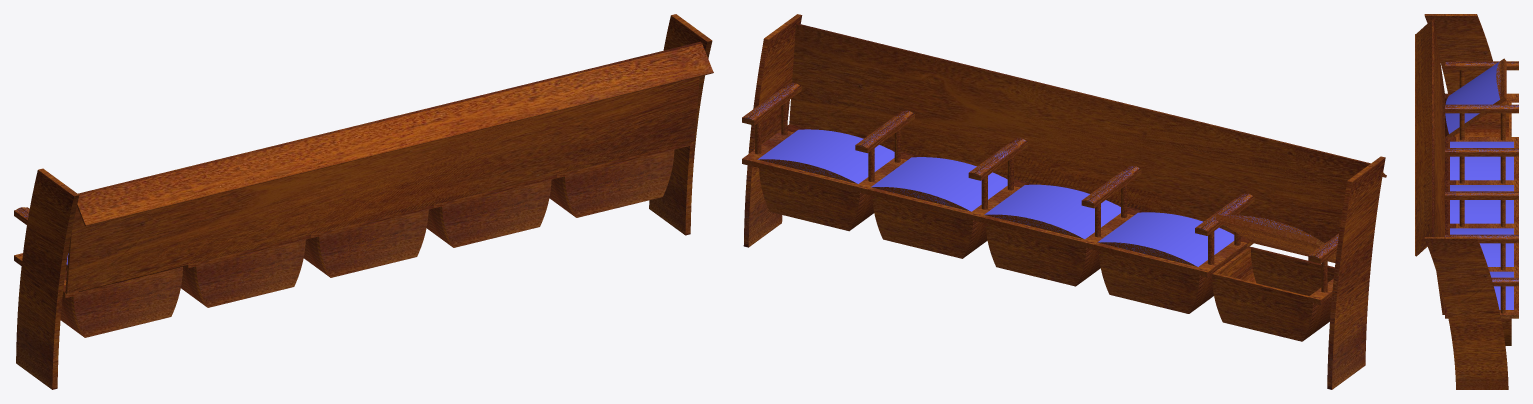
3 views of the same model, side by side, from view 1: azimuth 30°, elevation 25°; view 2: azimuth 150°, elevation 25°; view 3: azimuth 270°, elevation 25° (orthographic). The views are drawn at different scales.
Parts seen in each view (by area): view 1: mesh27_mesh27-geometry, mesh28_mesh28-geometry, mesh3_mesh3-geometry, mesh1_mesh1-geometry; view 2: mesh27_mesh27-geometry, mesh28_mesh28-geometry, mesh3_mesh3-geometry, mesh5_mesh5-geometry, mesh17_mesh17-geometry, mesh9_mesh9-geometry, mesh14_mesh14-geometry, mesh24_mesh24-geometry, mesh1_mesh1-geometry, mesh21_mesh21-geometry, mesh20_mesh20-geometry, mesh7_mesh7-geometry (+3 smaller); view 3: mesh1_mesh1-geometry, mesh27_mesh27-geometry, mesh5_mesh5-geometry, mesh3_mesh3-geometry, mesh21_mesh21-geometry, mesh14_mesh14-geometry, mesh24_mesh24-geometry, mesh9_mesh9-geometry, mesh28_mesh28-geometry, mesh17_mesh17-geometry, mesh8_mesh8-geometry, mesh13_mesh13-geometry (+4 smaller).
Boxes of the visible parts, x1,y1,x2,y2 form: mesh27_mesh27-geometry: [65, 41, 713, 294]; mesh28_mesh28-geometry: [60, 150, 674, 337]; mesh3_mesh3-geometry: [16, 168, 79, 389]; mesh1_mesh1-geometry: [649, 14, 712, 235]; mesh27_mesh27-geometry: [789, 23, 1386, 242]; mesh28_mesh28-geometry: [759, 168, 1334, 341]; mesh3_mesh3-geometry: [1327, 156, 1385, 389]; mesh5_mesh5-geometry: [742, 83, 1338, 292]; mesh17_mesh17-geometry: [754, 127, 901, 191]; mesh9_mesh9-geometry: [867, 155, 1015, 218]; mesh14_mesh14-geometry: [1094, 210, 1234, 274]; mesh24_mesh24-geometry: [981, 182, 1128, 246]; mesh1_mesh1-geometry: [743, 14, 802, 247]; mesh21_mesh21-geometry: [1215, 214, 1336, 262]; mesh20_mesh20-geometry: [1195, 236, 1253, 277]; mesh7_mesh7-geometry: [855, 152, 914, 194]; mesh1_mesh1-geometry: [1424, 237, 1508, 389]; mesh27_mesh27-geometry: [1415, 19, 1444, 314]; mesh5_mesh5-geometry: [1445, 61, 1518, 313]; mesh3_mesh3-geometry: [1424, 14, 1492, 93]; mesh21_mesh21-geometry: [1445, 58, 1506, 136]; mesh14_mesh14-geometry: [1445, 141, 1518, 180]; mesh24_mesh24-geometry: [1445, 185, 1518, 223]; mesh9_mesh9-geometry: [1445, 228, 1518, 266]; mesh28_mesh28-geometry: [1453, 102, 1511, 345]; mesh17_mesh17-geometry: [1445, 271, 1518, 309]; mesh8_mesh8-geometry: [1445, 223, 1518, 228]; mesh13_mesh13-geometry: [1445, 180, 1518, 184].
Size of the model in its own units: 0.938 by 0.2944 by 0.1832.
